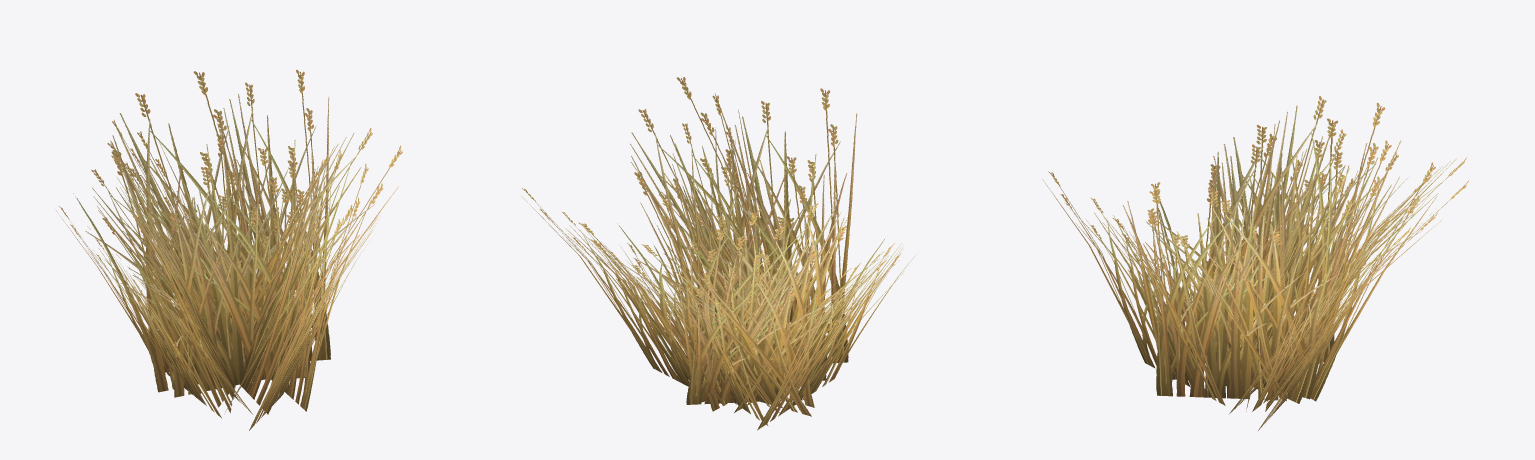
Rendered from Grass_DryGolden_A.fbx.
The picture shows the model from 3 angles, left to right: view 1: azimuth 30°, elevation 25°; view 2: azimuth 150°, elevation 25°; view 3: azimuth 270°, elevation 25°; orthographic projection. The views are drawn at different scales.
Parts seen in each view (by area): view 1: Grass_DryGolden_A_LOD0; view 2: Grass_DryGolden_A_LOD0; view 3: Grass_DryGolden_A_LOD0.
Part boxes in pixels (box(x1,y1,x2,y2)): Grass_DryGolden_A_LOD0: box(56, 70, 402, 430); Grass_DryGolden_A_LOD0: box(521, 77, 916, 430); Grass_DryGolden_A_LOD0: box(1042, 96, 1468, 430).
Size of what is drawn, in the model's own units: 0.7831 by 0.6009 by 0.9581.
